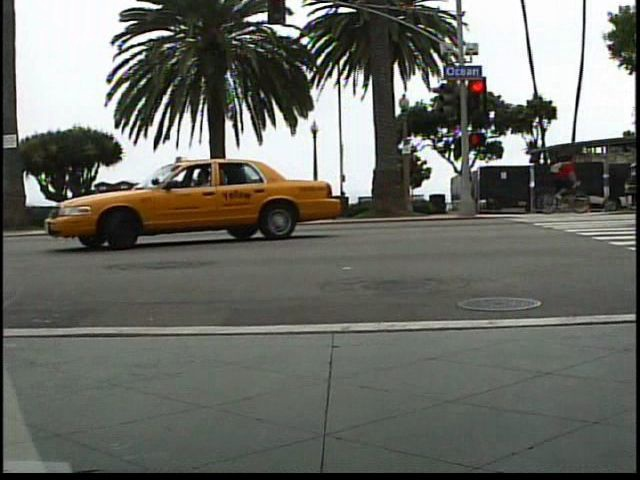person: (546, 152, 577, 205)
